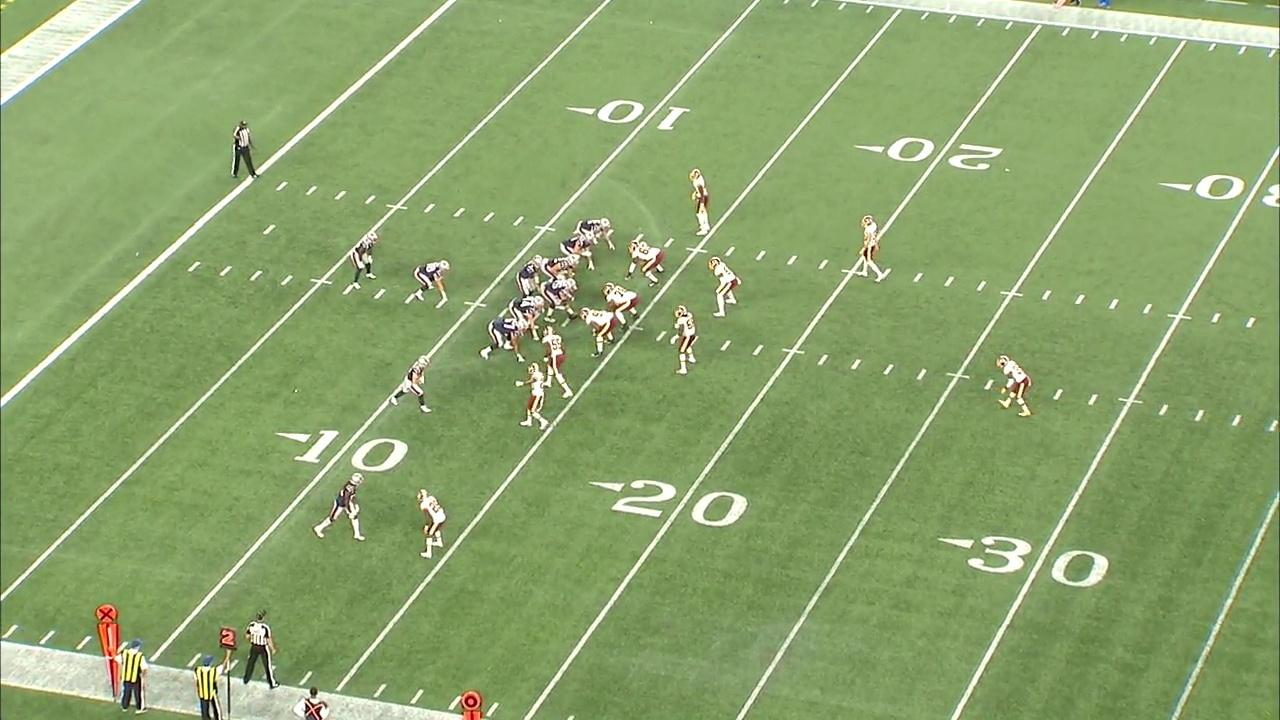player: (311, 470, 368, 545), (539, 320, 576, 401), (992, 350, 1034, 420), (390, 352, 436, 415), (515, 359, 551, 433), (478, 316, 530, 365), (413, 485, 446, 560), (576, 301, 618, 358), (706, 252, 740, 320), (856, 211, 886, 287), (345, 230, 382, 290), (623, 235, 665, 287), (670, 302, 698, 377), (602, 281, 642, 333), (540, 275, 582, 323), (507, 294, 549, 340), (411, 257, 452, 303), (687, 167, 712, 240), (575, 215, 617, 252), (561, 229, 596, 270), (540, 253, 585, 284), (515, 253, 545, 299)
ref: (240, 608, 284, 690), (228, 121, 264, 181)
